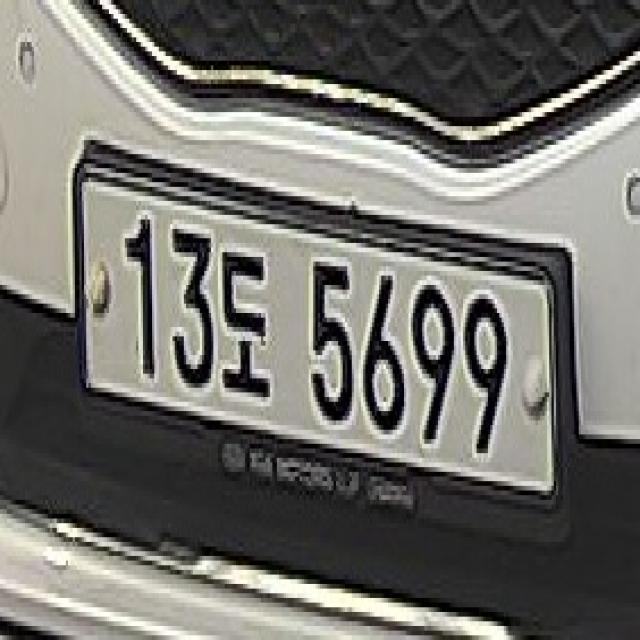1: (125, 212, 156, 392)
3: (168, 234, 212, 396)
5: (310, 259, 353, 432)
6: (362, 262, 404, 448)
9: (459, 282, 508, 466), (412, 278, 454, 454)
do: (218, 245, 272, 408)
license_plate: (72, 158, 571, 520)
